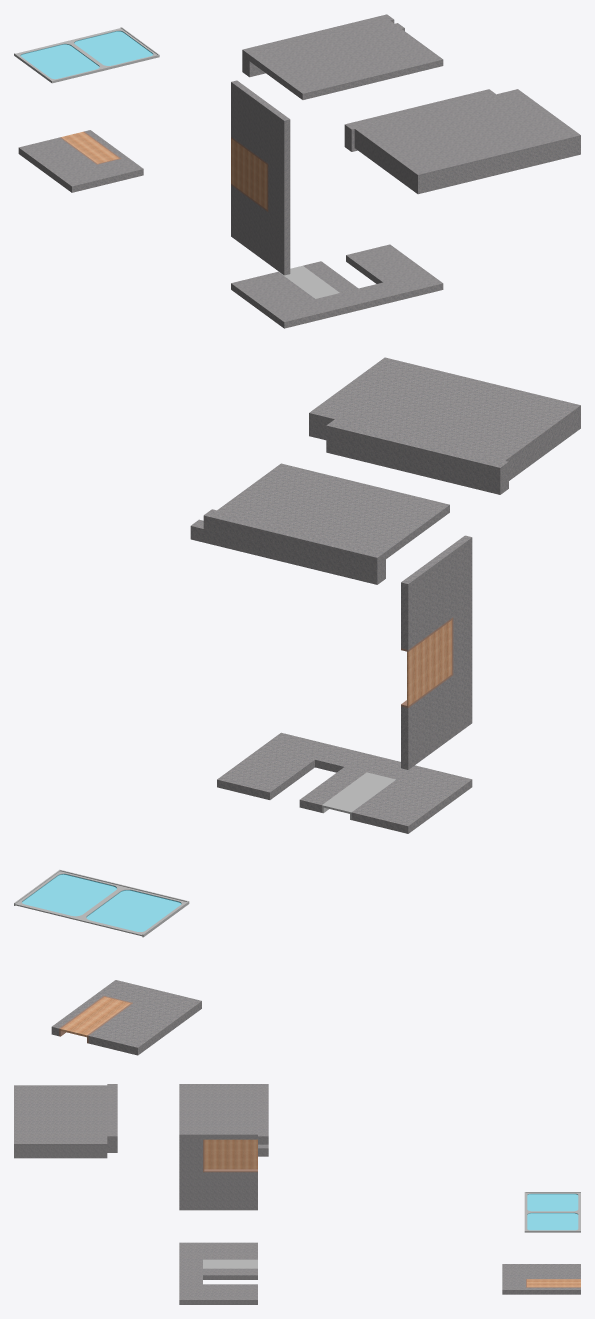
3 renders of one model, top to bottom at view 1: azimuth 30°, elevation 25°; view 2: azimuth 150°, elevation 25°; view 3: azimuth 270°, elevation 25°, orthographic. The views are drawn at different scales.
Visible parts, largest first — view 1: 0_3_1_2_1_2_0; view 2: 0_3_1_2_1_2_0; view 3: 0_3_1_2_1_2_0.
Boxes of the visible parts, left/top/right/bottom form: 0_3_1_2_1_2_0: left=14, top=14, right=580, bottom=328; 0_3_1_2_1_2_0: left=14, top=357, right=580, bottom=1055; 0_3_1_2_1_2_0: left=14, top=1084, right=580, bottom=1304.
Size of the model in its own units: 6 by 7.95 by 21.6.
14 materials, 9 textured.
